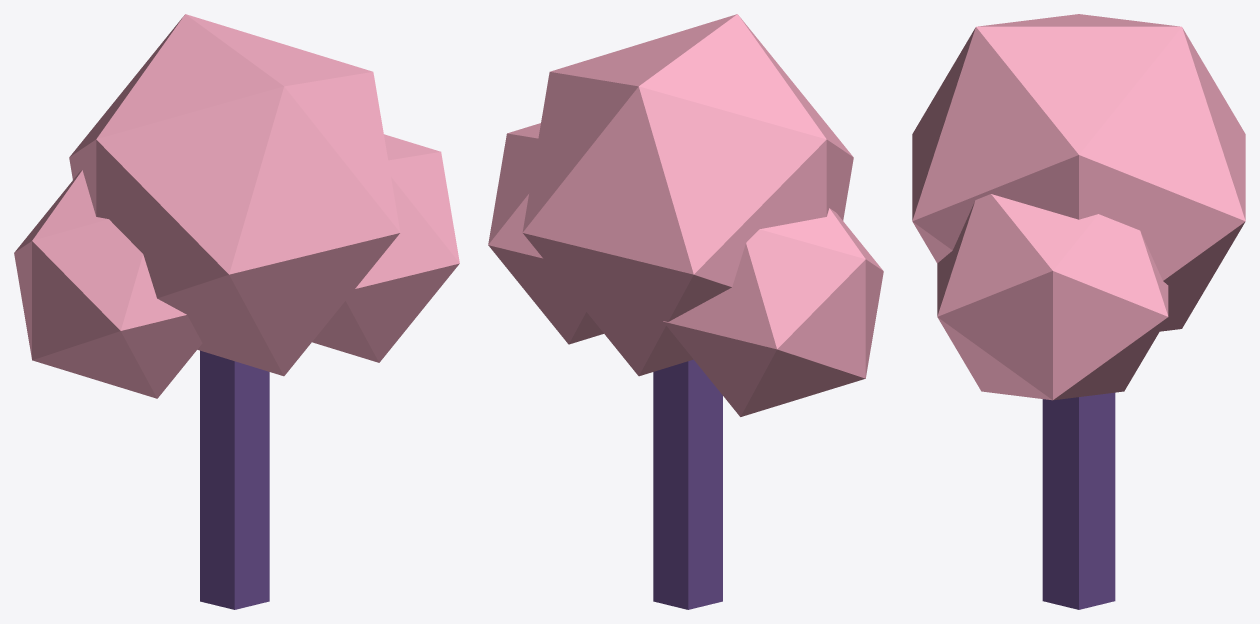
File: tree.glb
The picture shows the model from 3 angles, left to right: view 1: azimuth 30°, elevation 25°; view 2: azimuth 150°, elevation 25°; view 3: azimuth 270°, elevation 25°; orthographic projection. The views are drawn at different scales.
Parts seen in each view (by area): view 1: Puff0, Puff1, Trunk, Puff2; view 2: Puff0, Puff1, Trunk, Puff2; view 3: Puff0, Puff2, Trunk.
Boxes of the visible parts, x1,y1,x2,y2 form: Puff0: (69,14,400,376); Puff1: (14,170,202,398); Trunk: (200,350,269,609); Puff2: (312,134,459,362); Puff0: (522,14,853,376); Puff1: (663,208,883,416); Trunk: (653,359,722,609); Puff2: (488,123,603,344); Puff0: (912,14,1245,331); Puff2: (937,194,1168,400); Trunk: (1042,392,1115,609).
Bounding box in the file's own units: 1.77 × 2.39 × 1.28.
